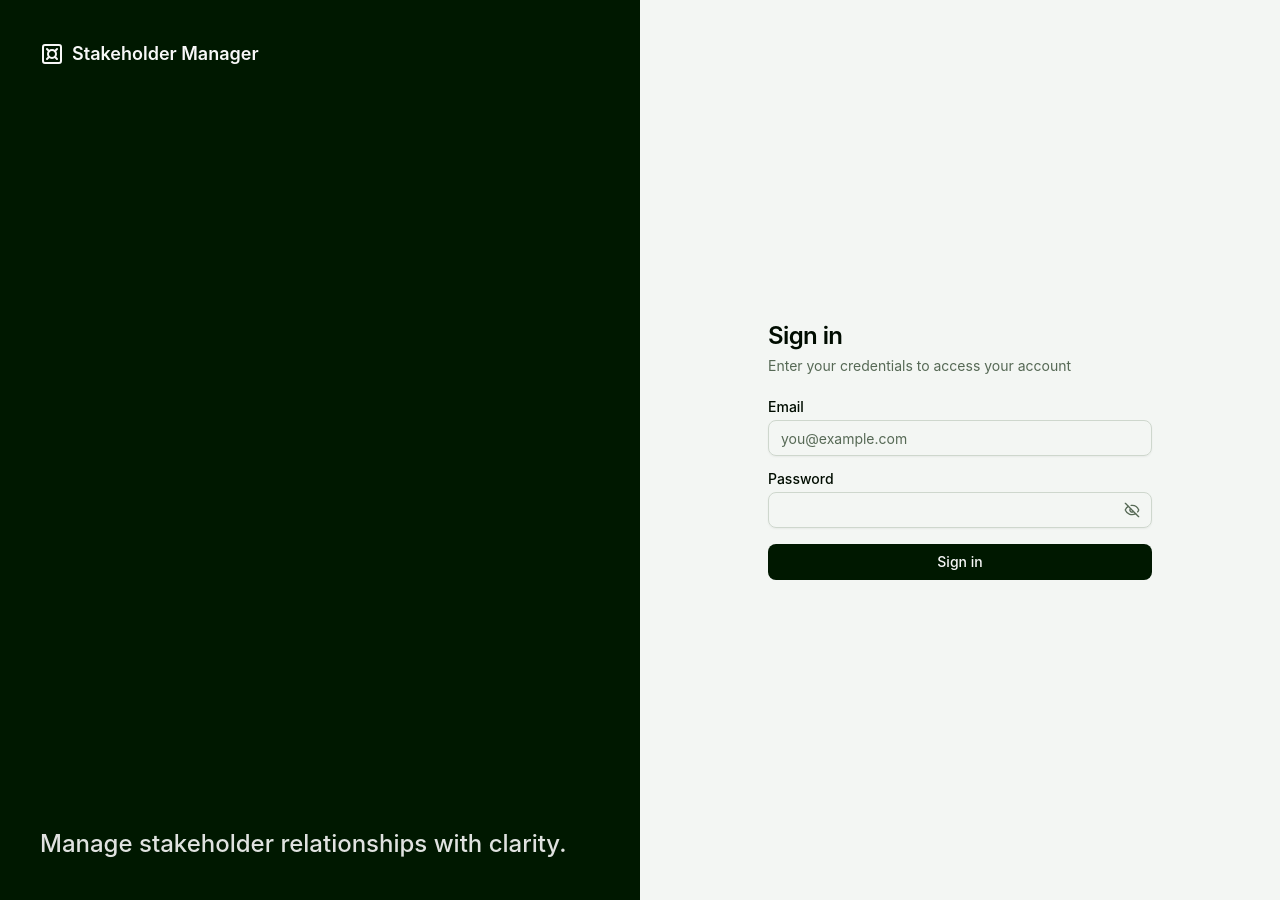
Test: LoginPage › disables the submit button while submitting
Type "test@example.com" into the field labelled "Email" at coordinates (960, 438), box [768,420,1152,456]
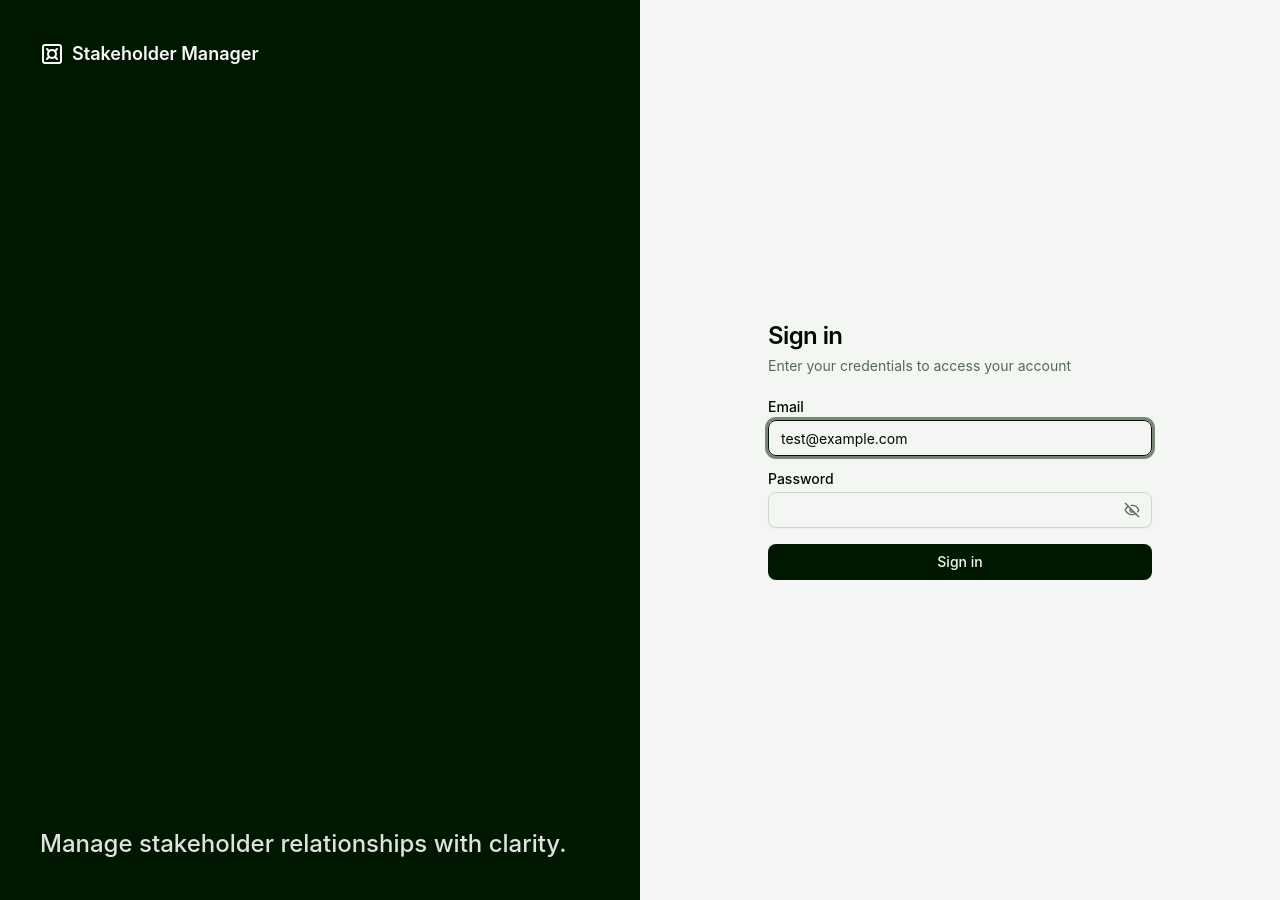
Type "secret" into the password field labelled "Password" at coordinates (960, 510), box [768,492,1152,528]
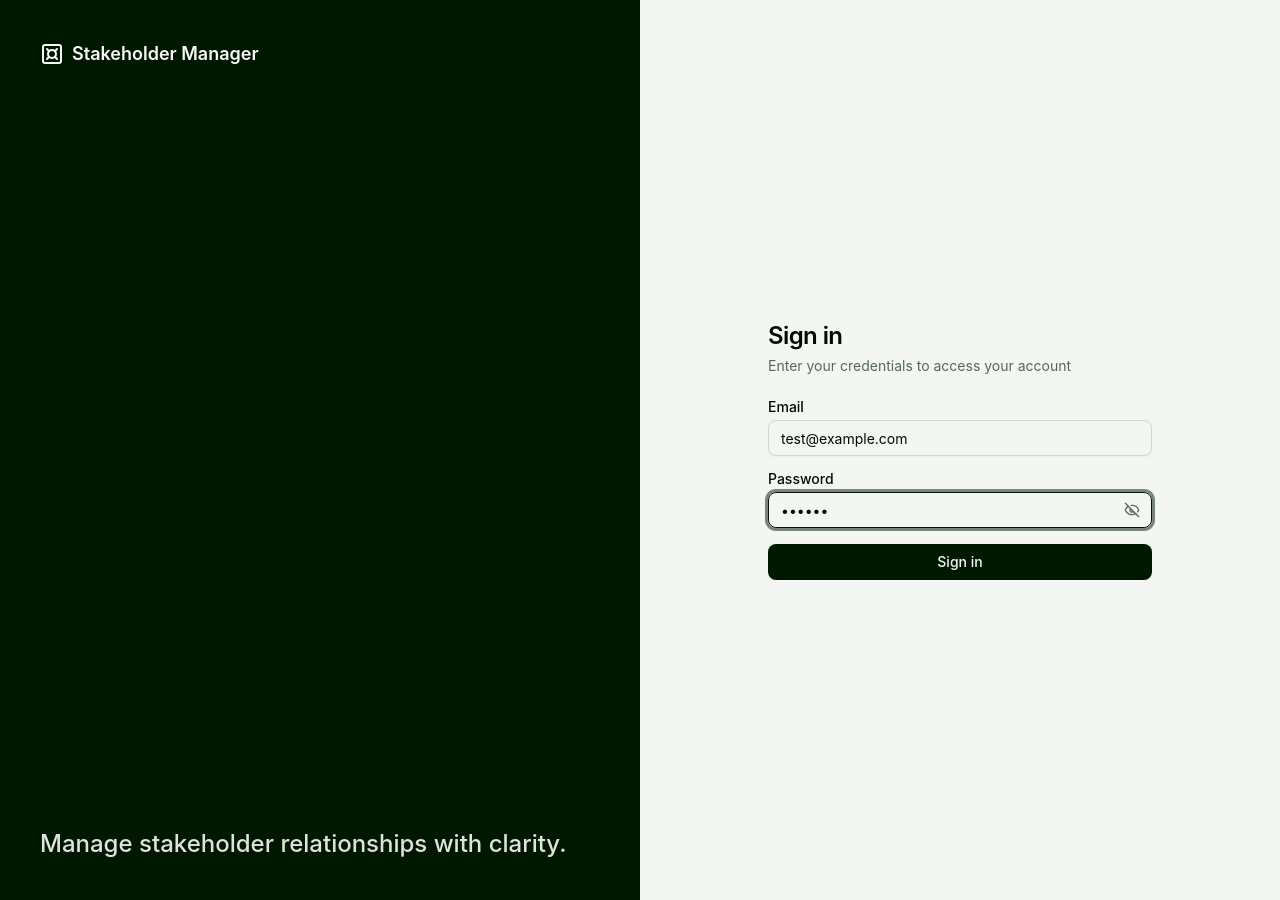
Click the button "Sign in" at coordinates (960, 562), box [768,544,1152,580]
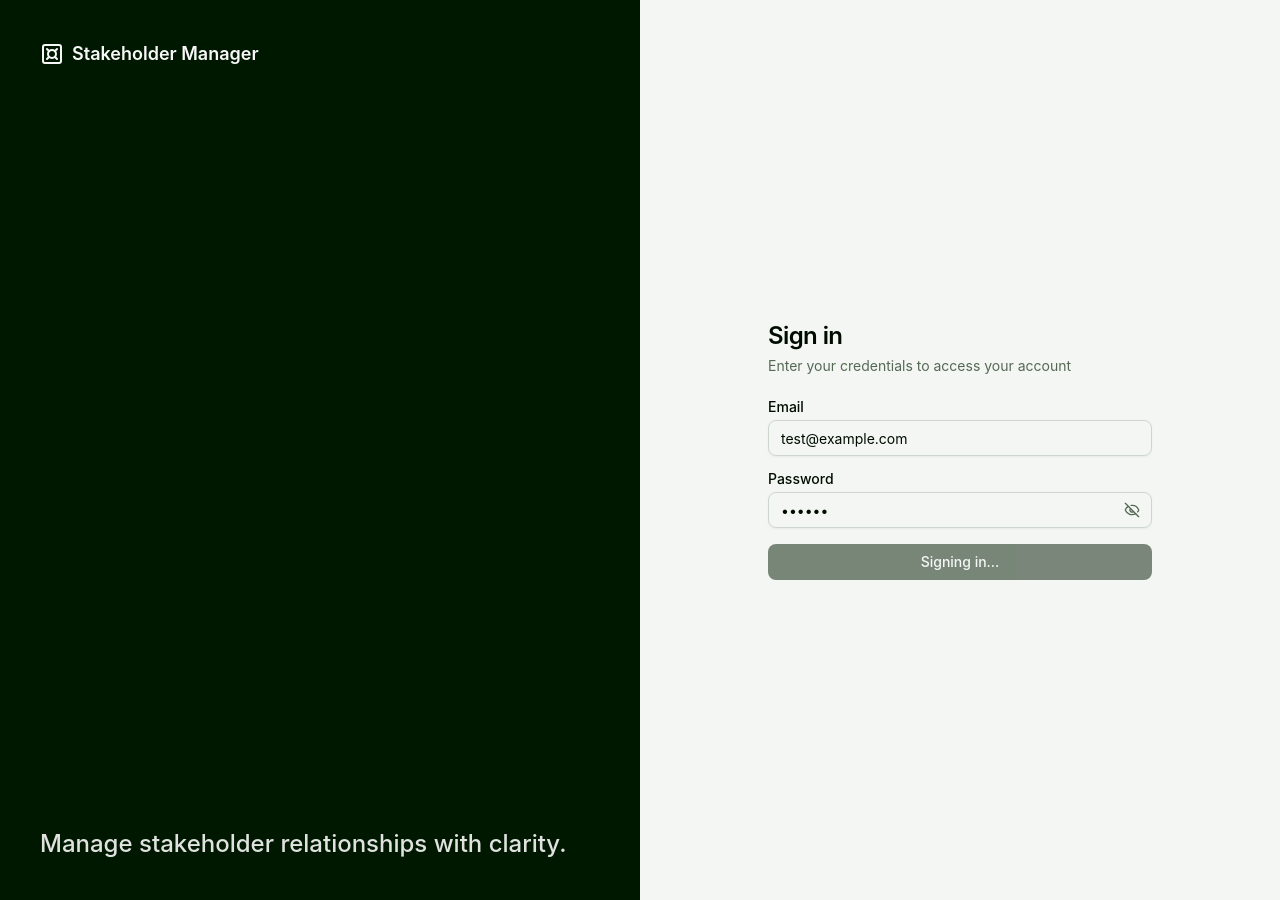
Check: the button "Signing in…" is disabled, box [768,544,1152,580]
